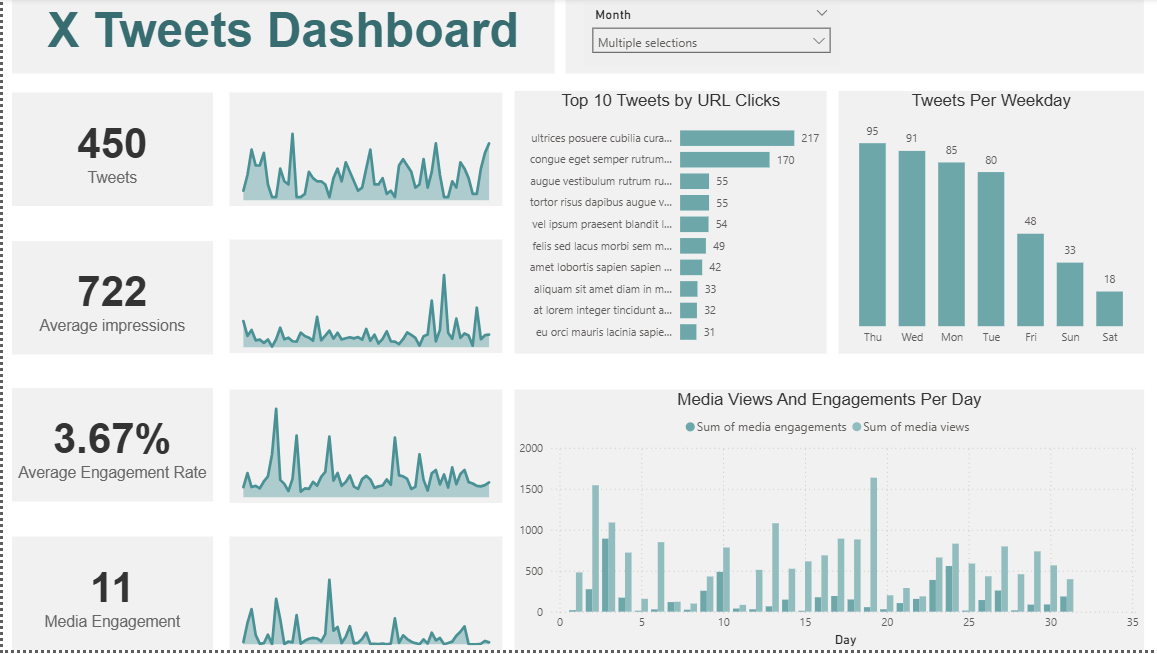

This screenshot's page, from the dashboard's own definition file:
{"tool":"powerbi","page":{"name":"Page 1","canvas":[1280,720],"ordinal":0},"visuals":[{"type":"textbox","box":[9.4,0,599.1,83.2],"z":0},{"type":"textbox","box":[621.7,0,638.7,83.2],"z":1000},{"type":"card","fields":{"Values":["CountNonNull(SocialMedia.Tweet)"]},"box":[9.5,104.2,221.8,125.1],"z":2000},{"type":"slicer","fields":{"Values":["SocialMedia.Date.Variation.Date Hierarchy.Month"]},"box":[640.6,5.7,282.4,70.1],"z":3000},{"type":"card","fields":{"Values":["Avg(SocialMedia.impressions)"]},"box":[9.5,267.8,221.8,125.1],"z":4000},{"type":"card","fields":{"Values":["Avg(SocialMedia.engagement rate)"]},"box":[9.5,431.4,221.8,125.1],"z":5000},{"type":"card","fields":{"Values":["Avg(SocialMedia.media engagements)"]},"box":[9.5,594.9,221.8,125.1],"z":6000},{"type":"areaChart","fields":{"Y":["CountNonNull(SocialMedia.Tweet)"],"Category":["SocialMedia.Date.Variation.Date Hierarchy.Year","SocialMedia.Date.Variation.Date Hierarchy.Month","SocialMedia.Date.Variation.Date Hierarchy.Day"]},"box":[250.2,104.2,301.4,125.1],"z":7000},{"type":"areaChart","fields":{"Y":["Avg(SocialMedia.engagement rate)"],"Category":["SocialMedia.Date.Variation.Date Hierarchy.Year","SocialMedia.Date.Variation.Date Hierarchy.Quarter","SocialMedia.Date.Variation.Date Hierarchy.Month","SocialMedia.Date.Variation.Date Hierarchy.Day"]},"box":[250.2,432.1,301.4,125.1],"z":8000},{"type":"areaChart","fields":{"Y":["Avg(SocialMedia.media engagements)"],"Category":["SocialMedia.Date.Variation.Date Hierarchy.Year","SocialMedia.Date.Variation.Date Hierarchy.Quarter","SocialMedia.Date.Variation.Date Hierarchy.Month","SocialMedia.Date.Variation.Date Hierarchy.Day"]},"box":[250.2,595.1,301.4,125.1],"z":9000},{"type":"areaChart","fields":{"Y":["Avg(SocialMedia.impressions)"],"Category":["SocialMedia.Date.Variation.Date Hierarchy.Year","SocialMedia.Date.Variation.Date Hierarchy.Month","SocialMedia.Date.Variation.Date Hierarchy.Day"]},"box":[250.2,267.2,301.4,125.1],"z":10000},{"type":"barChart","title":"Top 10 Tweets by URL Clicks","fields":{"Category":["SocialMedia.Tweet"],"Y":["Avg(SocialMedia.url clicks)"]},"box":[564.8,102.4,345,290],"z":11000},{"type":"columnChart","title":"Tweets Per Weekday","fields":{"Category":["SocialMedia.weekday"],"Y":["CountNonNull(SocialMedia.Tweet)"]},"box":[923,102.4,337.4,290],"z":12000},{"type":"clusteredColumnChart","title":"Media Views And Engagements Per Day","fields":{"Category":["SocialMedia.Date.Variation.Date Hierarchy.Day"],"Y":["Sum(SocialMedia.media engagements)","Sum(SocialMedia.media views)"]},"box":[564.8,432.1,695.6,288.1],"z":13000}]}

Visuals, with their boxes in screenshot pixels (x1, y1, x2, y2), scaled from the page's 1280x720 canvas onto the 1157x654 screenshot:
textbox: 8, 0, 550, 76
textbox: 562, 0, 1139, 76
card - CountNonNull(SocialMedia.Tweet): 9, 95, 209, 208
slicer - SocialMedia.Date.Variation.Date Hierarchy.Month: 579, 5, 834, 69
card - Avg(SocialMedia.impressions): 9, 243, 209, 357
card - Avg(SocialMedia.engagement rate): 9, 392, 209, 505
card - Avg(SocialMedia.media engagements): 9, 540, 209, 653
areaChart - CountNonNull(SocialMedia.Tweet) x SocialMedia.Date.Variation.Date Hierarchy.Year: 226, 95, 499, 208
areaChart - Avg(SocialMedia.engagement rate) x SocialMedia.Date.Variation.Date Hierarchy.Year: 226, 392, 499, 506
areaChart - Avg(SocialMedia.media engagements) x SocialMedia.Date.Variation.Date Hierarchy.Year: 226, 541, 499, 653
areaChart - Avg(SocialMedia.impressions) x SocialMedia.Date.Variation.Date Hierarchy.Year: 226, 243, 499, 356
"Top 10 Tweets by URL Clicks" barChart: 511, 93, 822, 356
"Tweets Per Weekday" columnChart: 834, 93, 1139, 356
"Media Views And Engagements Per Day" clusteredColumnChart: 511, 392, 1139, 653
